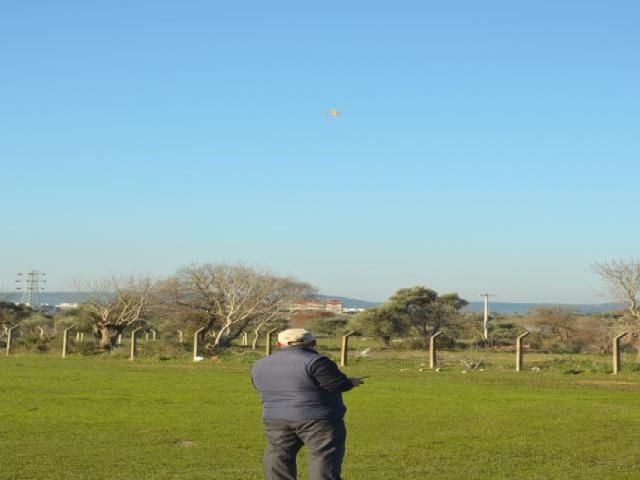iha: (326, 110, 340, 117)
